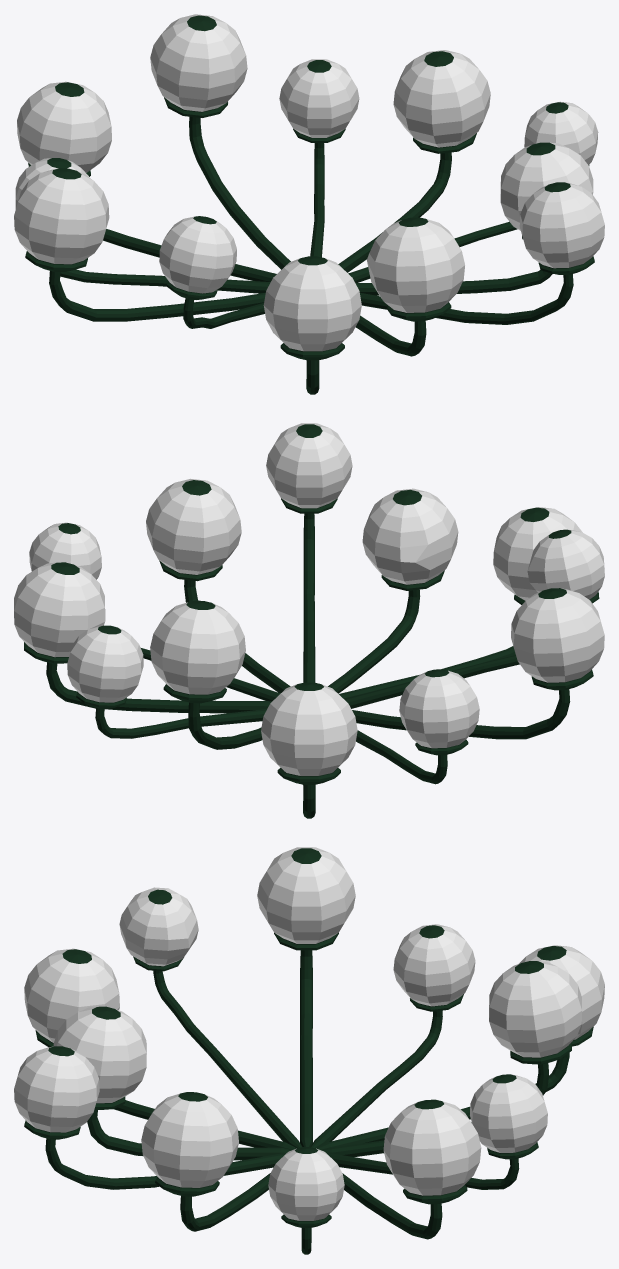
The model's file is Chandelier_orangeBottom.fbx.
The picture shows the model from 3 angles, top to bottom: view 1: azimuth 30°, elevation 25°; view 2: azimuth 150°, elevation 25°; view 3: azimuth 270°, elevation 25°; orthographic projection. The views are drawn at different scales.
Parts seen in each view (by area): view 1: Chandelier orange; view 2: Chandelier orange; view 3: Chandelier orange.
Part boxes in pixels (box(x1,y1,x2,y2)): Chandelier orange: box(14, 14, 604, 394); Chandelier orange: box(14, 423, 604, 818); Chandelier orange: box(14, 847, 604, 1254).
Size of the model in its own units: 389 by 126 by 347.
